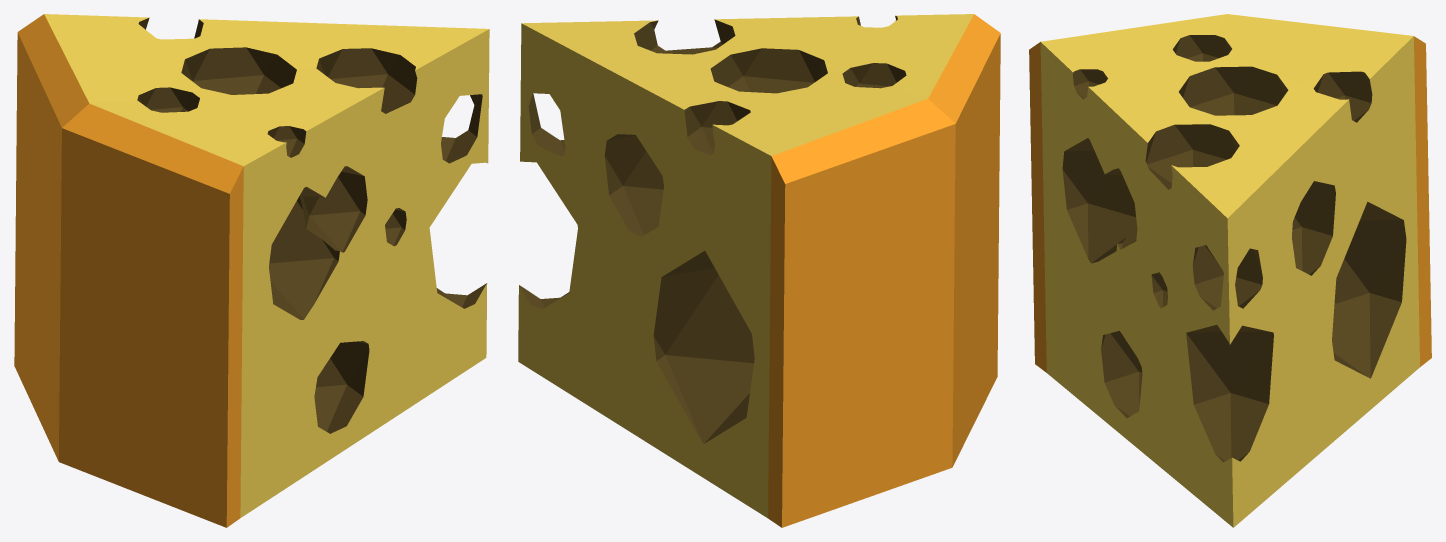
Rendered from cheese.glb.
The picture shows the model from 3 angles, left to right: view 1: azimuth 30°, elevation 25°; view 2: azimuth 150°, elevation 25°; view 3: azimuth 270°, elevation 25°; orthographic projection. The views are drawn at different scales.
Parts seen in each view (by area): view 1: Cheese_1; view 2: Cheese_1; view 3: Cheese_1.
Boxes of the visible parts, x1=… form: Cheese_1: x1=14, y1=14, x2=489, y2=527; Cheese_1: x1=518, y1=14, x2=1000, y2=527; Cheese_1: x1=1029, y1=14, x2=1431, y2=527.
Bounding box in the file's own units: 2.47 × 1.99 × 2.16.
